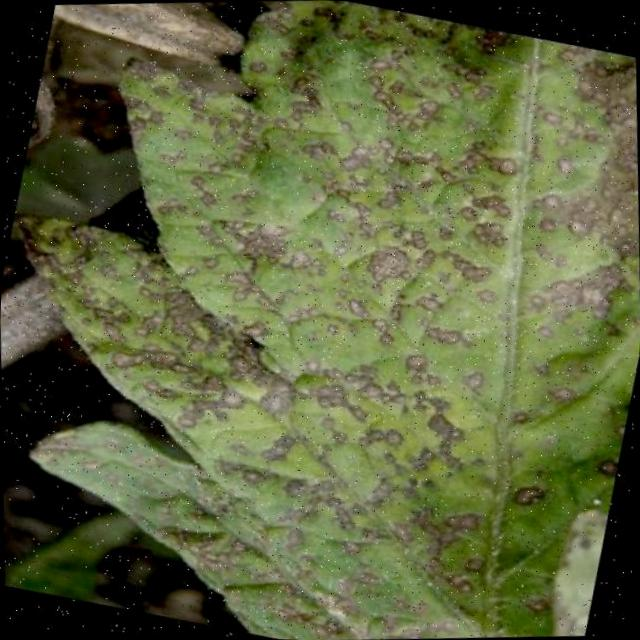Bacterial: (147, 91, 640, 640)
